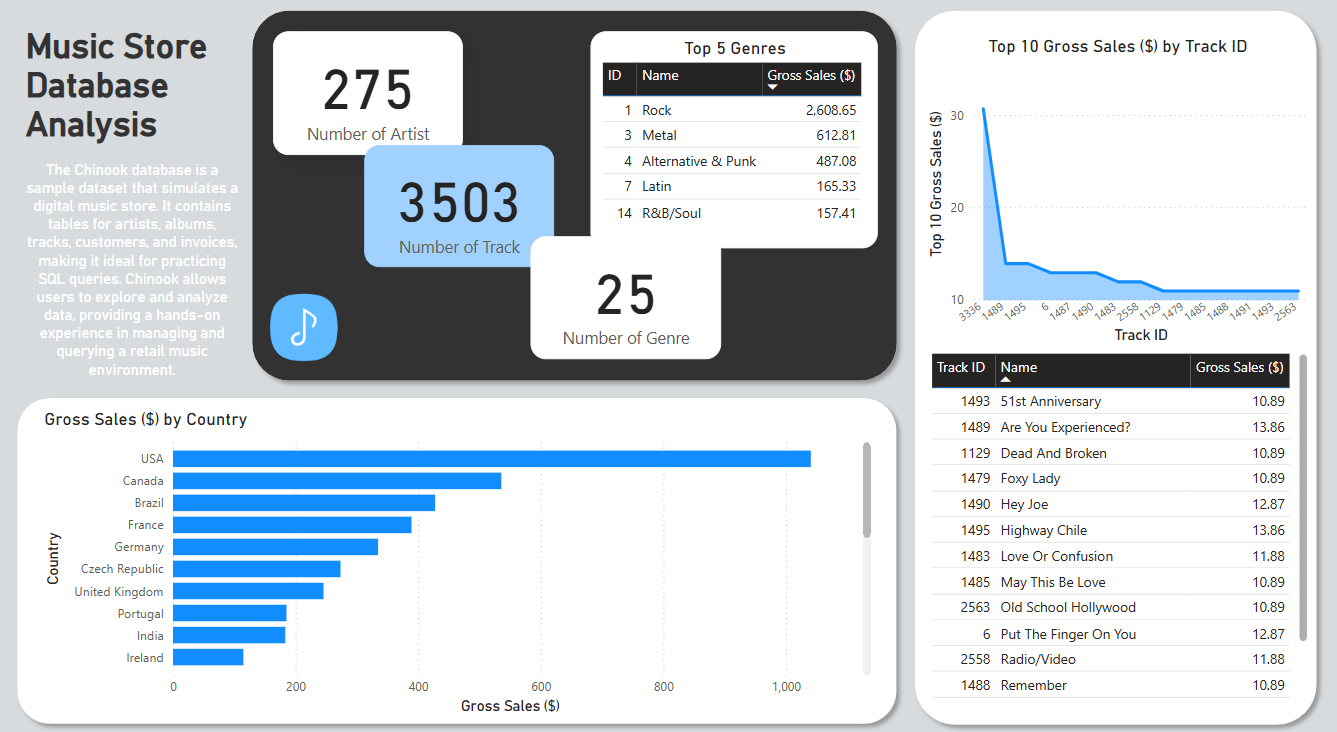

This screenshot's page, from the dashboard's own definition file:
{"tool":"powerbi","page":{"name":"Page 1","canvas":[1280,720],"ordinal":0},"visuals":[{"type":"textbox","box":[87.3,19.4,511.3,54],"z":0},{"type":"tableEx","fields":{"Values":["customer.customer_id","customer.first_name","customer.last_name","customer.Top 10 Spend"]},"box":[241.1,194,351.9,306.2],"z":1000},{"type":"tableEx","fields":{"Values":["artist.artist_id","artist.name","artist.Top 10 Artists Spend"]},"box":[593,461,310.4,249.4],"z":2000},{"type":"card","fields":{"Values":["CountNonNull(artist.artist_id)"]},"box":[5.1,92.6,231.4,126.1],"z":3000},{"type":"card","fields":{"Values":["CountNonNull(track.track_id)"]},"box":[5.1,218.6,231.4,119.2],"z":4000},{"type":"card","fields":{"Values":["CountNonNull(genre.genre_id)"]},"box":[5.1,328.1,231.4,119.2],"z":5000},{"type":"tableEx","fields":{"Values":["track.track_id","track.name","track.Top 10 Tracks Spend"]},"box":[907.6,350.4,363.6,360.6],"z":6000},{"type":"tableEx","title":"Top 5 Genres","fields":{"Values":["genre.genre_id","genre.name","genre.Top 5 Genres Spend"]},"box":[587.5,176,310.4,171.8],"z":7000},{"type":"clusteredBarChart","fields":{"Category":["customer.country"],"Y":["customer.Top 10 Spend"]},"box":[6.9,483.6,580.6,230],"z":8000},{"type":"advancedSlicerVisual","fields":{"Values":["invoice.invoice_date.Variation.Date Hierarchy.Year"]},"box":[598.6,13.9,264.6,65.1],"z":9000},{"type":"stackedAreaChart","fields":{"Y":["customer.Top 10 Spend"],"Category":["customer.customer_id"]},"box":[241.4,79.4,351.4,102.4],"z":10000},{"type":"stackedAreaChart","fields":{"Category":["track.track_id"],"Y":["track.Top 10 Tracks Spend"]},"box":[907.6,15.2,363,327],"z":11000},{"type":"card","fields":{"Values":["artist.Top 10 Artists Spend"]},"box":[591.6,333.5,311.8,127.5],"z":12000},{"type":"image","box":[6.9,6.9,81.7,79],"z":13000},{"type":"image","box":[612.7,103.6,51.3,47.1],"z":14000},{"type":"image","box":[680.6,91.2,49.9,49.9],"z":15000},{"type":"image","box":[741.6,113.3,51.3,47.1],"z":16000},{"type":"image","box":[795.6,88.4,49.9,49.9],"z":17000}]}

Visuals, with their boxes in screenshot pixels (x1, y1, x2, y2), scaled from the page's 1280x720 canvas onto the 1337x732 screenshot:
textbox: rect(91, 20, 625, 75)
tableEx - customer.customer_id x customer.first_name: rect(252, 197, 619, 509)
tableEx - artist.artist_id x artist.name: rect(619, 469, 944, 722)
card - CountNonNull(artist.artist_id): rect(5, 94, 247, 222)
card - CountNonNull(track.track_id): rect(5, 222, 247, 343)
card - CountNonNull(genre.genre_id): rect(5, 334, 247, 455)
tableEx - track.track_id x track.name: rect(948, 356, 1328, 723)
"Top 5 Genres" tableEx: rect(614, 179, 938, 354)
clusteredBarChart - customer.country x customer.Top 10 Spend: rect(7, 492, 614, 725)
advancedSlicerVisual - invoice.invoice_date.Variation.Date Hierarchy.Year: rect(625, 14, 902, 80)
stackedAreaChart - customer.Top 10 Spend x customer.customer_id: rect(252, 81, 619, 185)
stackedAreaChart - track.track_id x track.Top 10 Tracks Spend: rect(948, 15, 1327, 348)
card - artist.Top 10 Artists Spend: rect(618, 339, 944, 469)
image: rect(7, 7, 93, 87)
image: rect(640, 105, 694, 153)
image: rect(711, 93, 763, 143)
image: rect(775, 115, 828, 163)
image: rect(831, 90, 883, 141)
